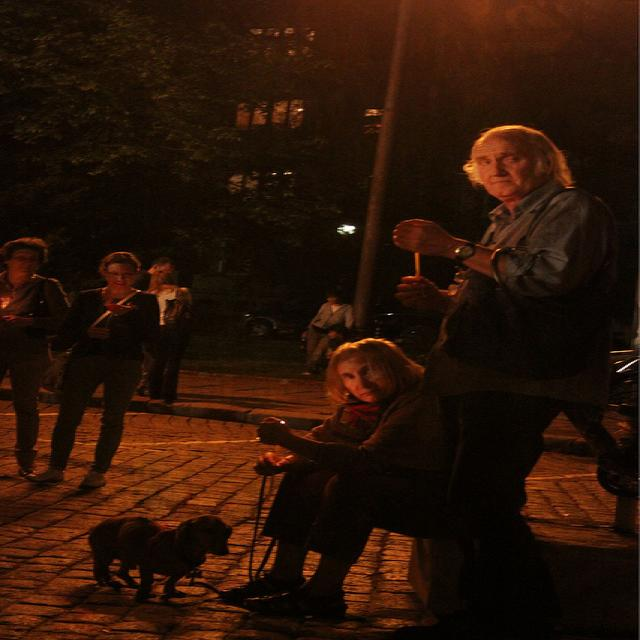Dog: (24, 512, 270, 619)
